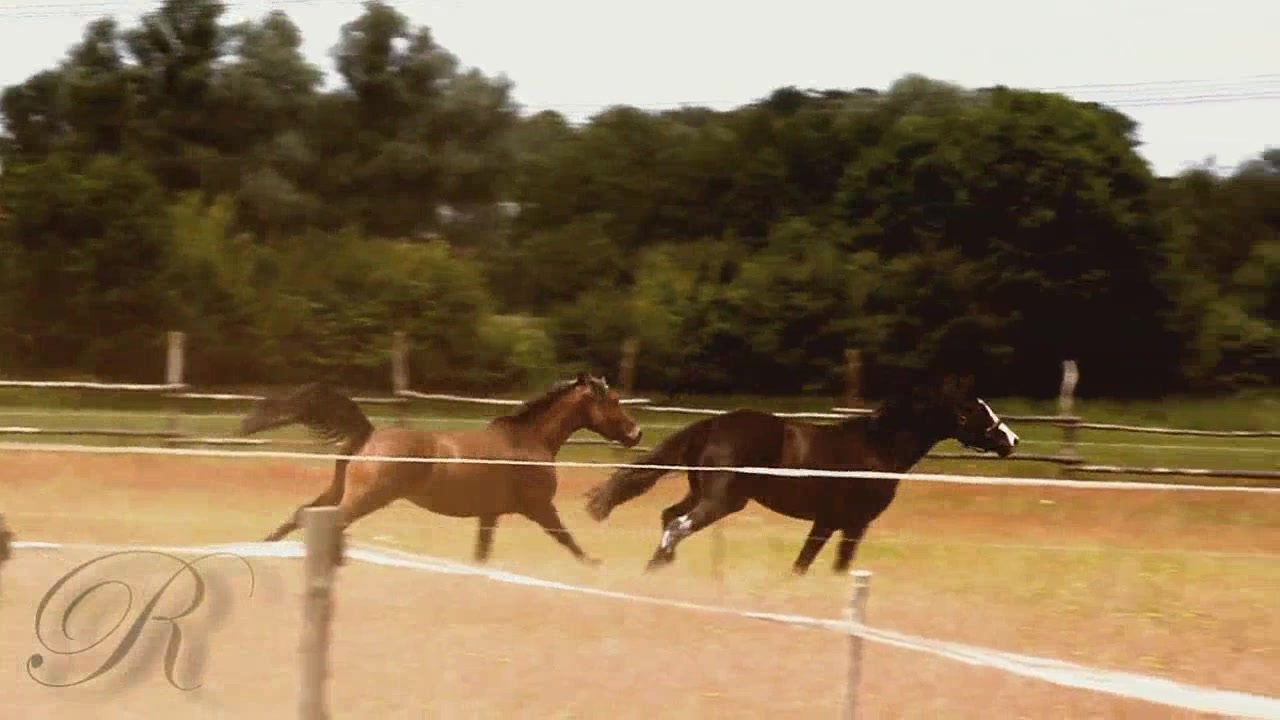horse: (587, 373, 1023, 581), (239, 368, 646, 564)
